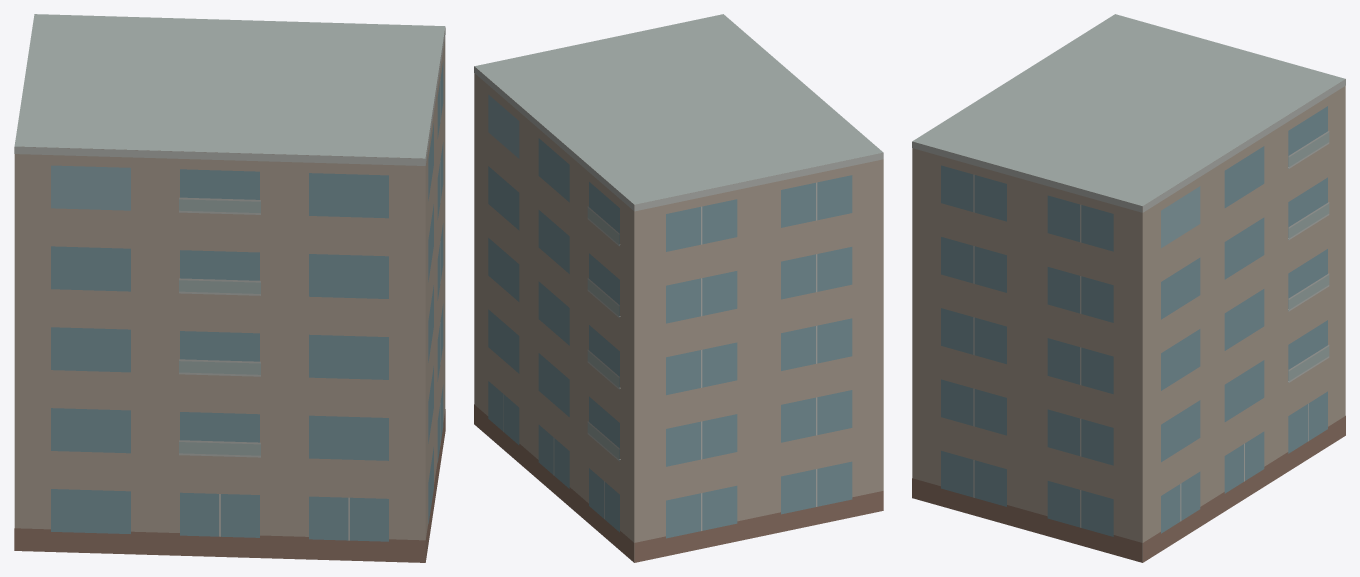
Rendered from survey-upis-32885155.glb.
3 views of the same model, side by side, from view 1: azimuth 30°, elevation 25°; view 2: azimuth 150°, elevation 25°; view 3: azimuth 270°, elevation 25° (orthographic). The views are drawn at different scales.
Visible parts, largest first — view 1: survey-upis-32885155.tmp; view 2: survey-upis-32885155.tmp; view 3: survey-upis-32885155.tmp.
Part boxes in pixels (<box>): survey-upis-32885155.tmp: <box>14,14,445,562</box>; survey-upis-32885155.tmp: <box>474,14,883,562</box>; survey-upis-32885155.tmp: <box>912,14,1345,562</box>.
Bounding box in the file's own units: 15.15 × 13.1 × 14.45.
